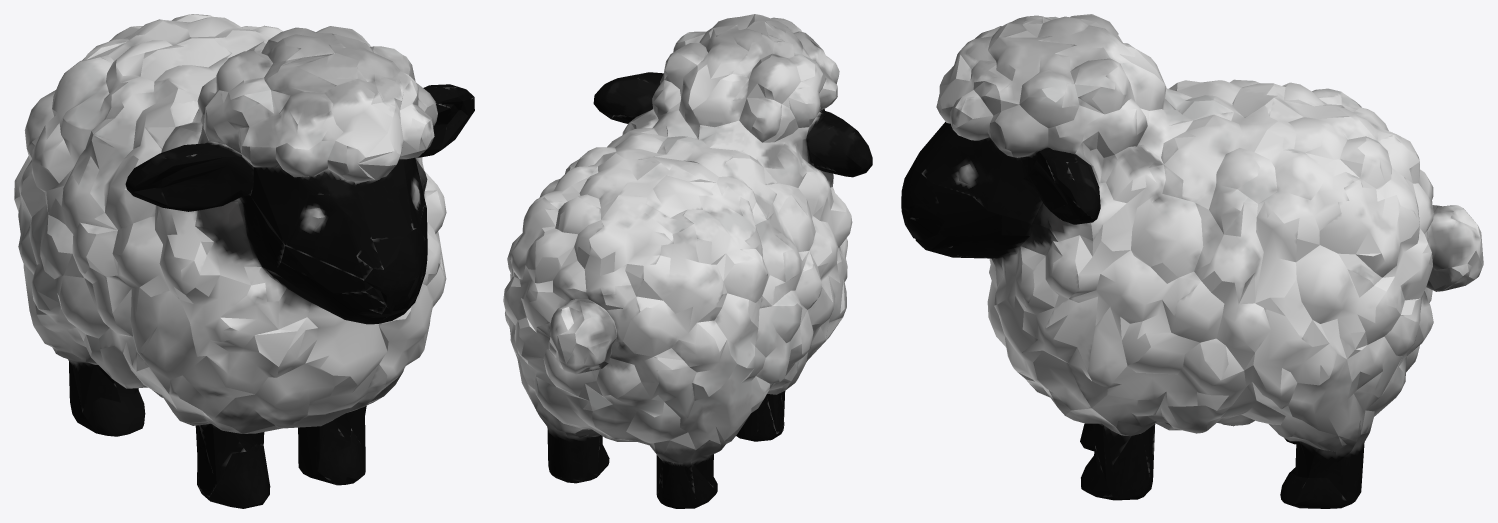
The model's file is sheep.glb.
3 views of the same model, side by side, from view 1: azimuth 30°, elevation 25°; view 2: azimuth 150°, elevation 25°; view 3: azimuth 270°, elevation 25° (orthographic). The views are drawn at different scales.
Bounding box in the file's own units: 1.23 × 1.59 × 1.9.
Materials: 1 (1 with a texture image).
